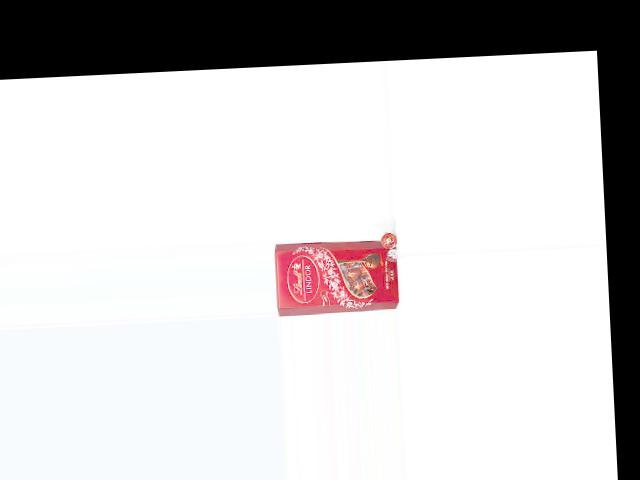chocolate: (274, 231, 399, 315)
